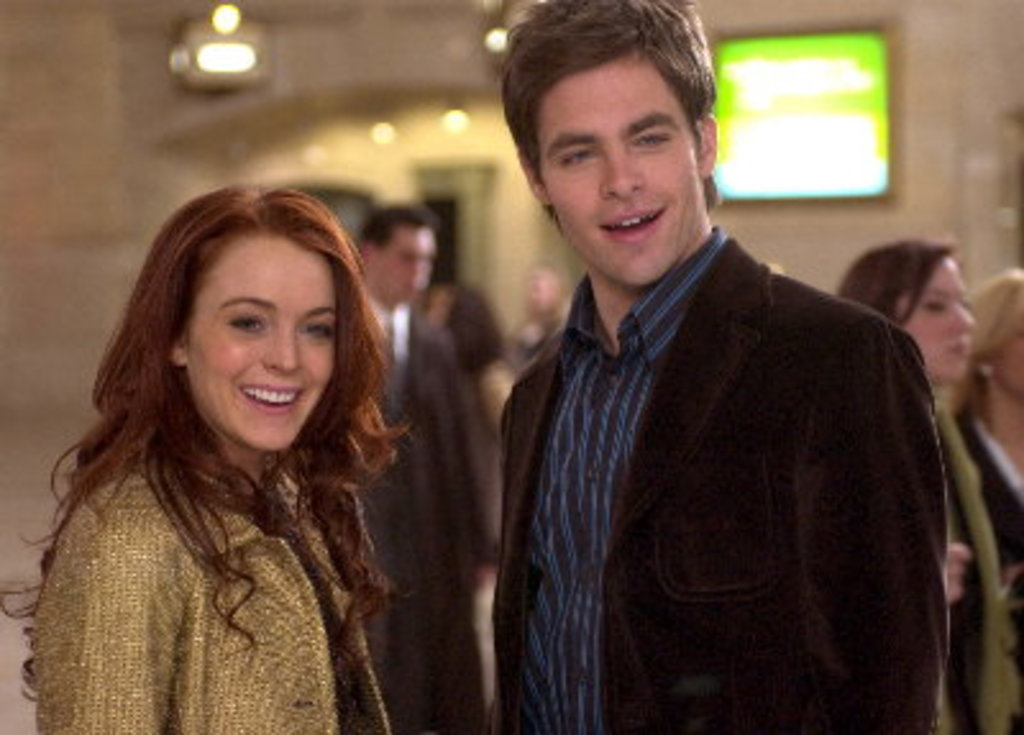Human-face: (538, 56, 704, 289), (184, 236, 338, 451), (901, 261, 973, 384), (374, 228, 433, 300), (993, 328, 1021, 392)
